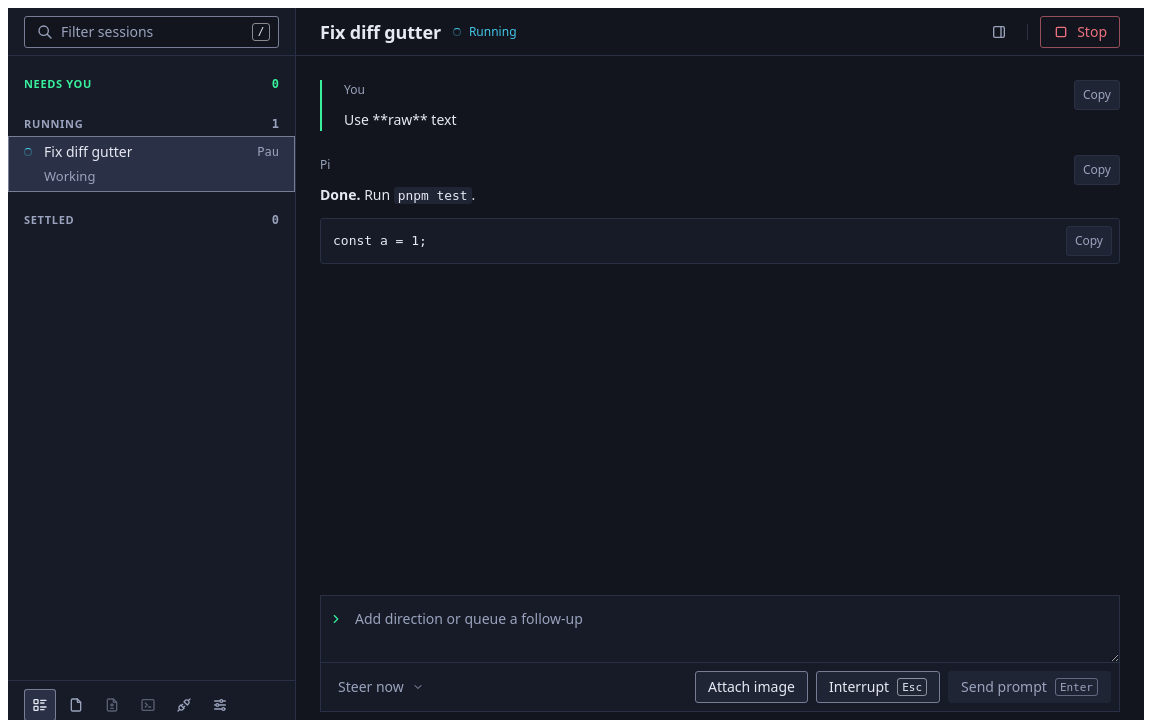
shows and announces a clipboard failure
Click the button with aria-label "Copy reply": (1097, 170) [1074, 155, 1120, 185]
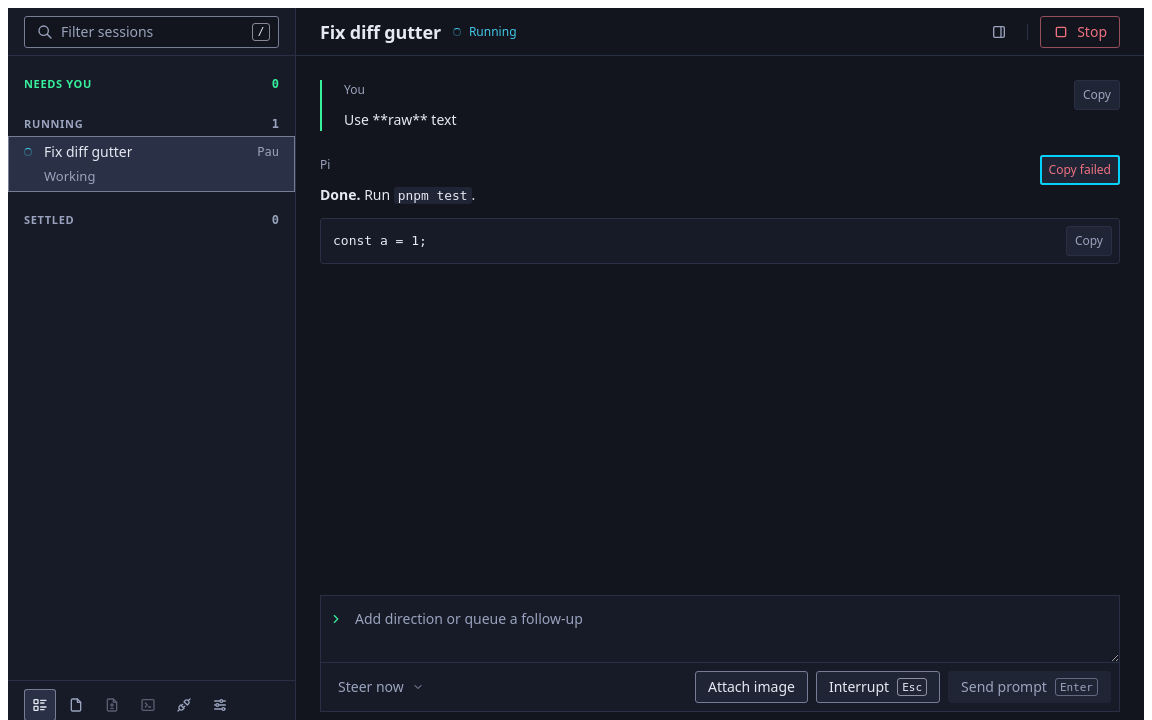
expect the button with aria-label "Copy reply" reads "Copy failed": met, box [1040, 155, 1120, 185]
